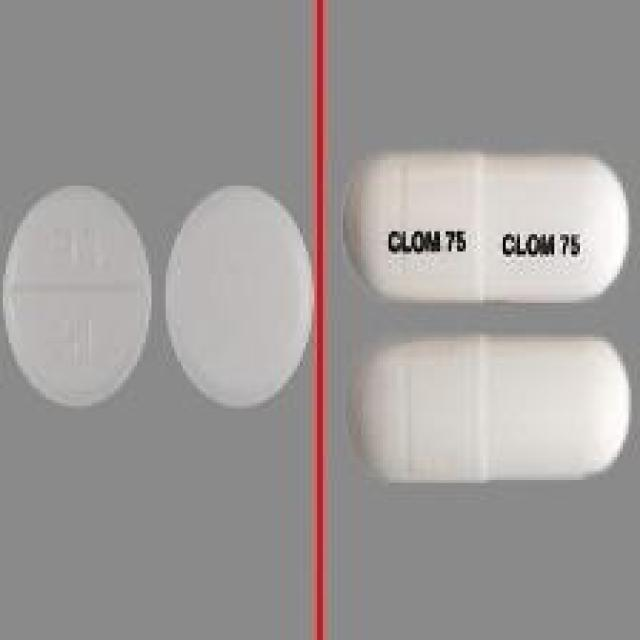Medicine: (343, 138, 640, 314), (340, 340, 640, 500), (166, 168, 310, 420), (0, 178, 148, 408)
